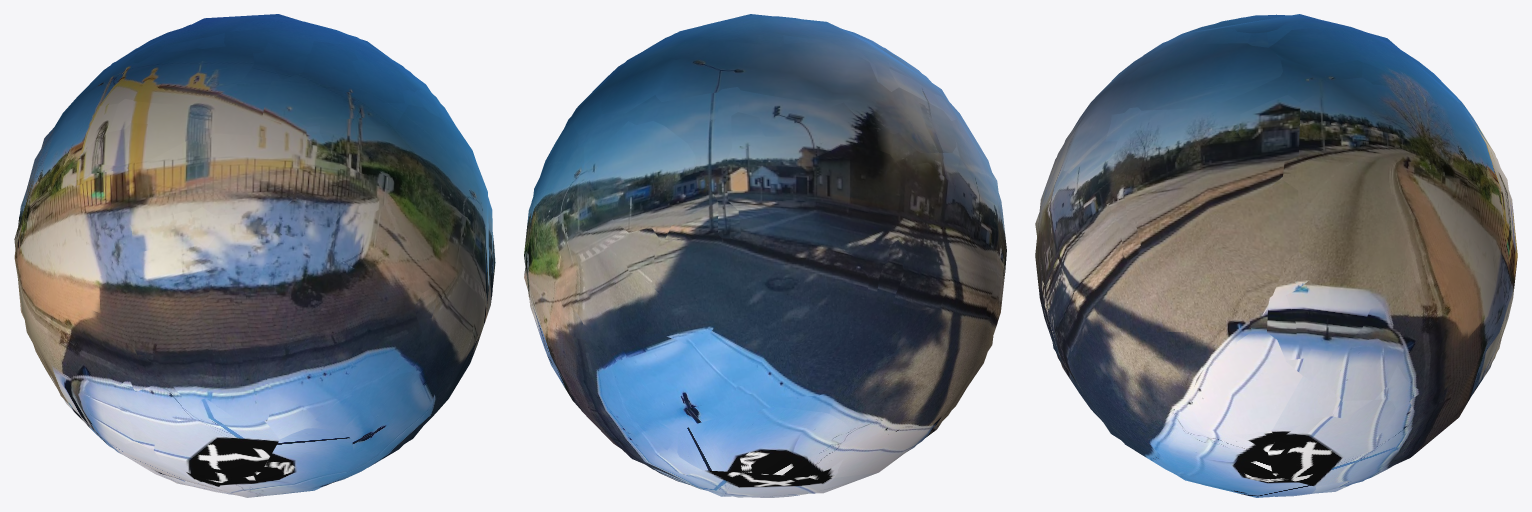
Rendered from __lods__Overtaking-12.glb.
3 renders of one model, left to right at view 1: azimuth 30°, elevation 25°; view 2: azimuth 150°, elevation 25°; view 3: azimuth 270°, elevation 25°, orthographic.
Visible parts, largest first — view 1: __LOD_2__Sphere, __LOD_1__Sphere, __LOD_0__Sphere; view 2: __LOD_2__Sphere, __LOD_1__Sphere, __LOD_0__Sphere; view 3: __LOD_2__Sphere, __LOD_1__Sphere, __LOD_0__Sphere.
Boxes of the visible parts, box(x1,y1,x2,y2) form: __LOD_2__Sphere: box(14, 14, 489, 497); __LOD_1__Sphere: box(14, 15, 493, 496); __LOD_0__Sphere: box(16, 16, 495, 494); __LOD_2__Sphere: box(524, 14, 998, 496); __LOD_1__Sphere: box(524, 15, 1006, 497); __LOD_0__Sphere: box(525, 16, 1006, 497); __LOD_2__Sphere: box(1035, 14, 1517, 497); __LOD_1__Sphere: box(1035, 15, 1517, 497); __LOD_0__Sphere: box(1035, 14, 1517, 496).
Bounding box in the file's own units: 2 × 2 × 2.
Materials: 1 (1 with a texture image).
